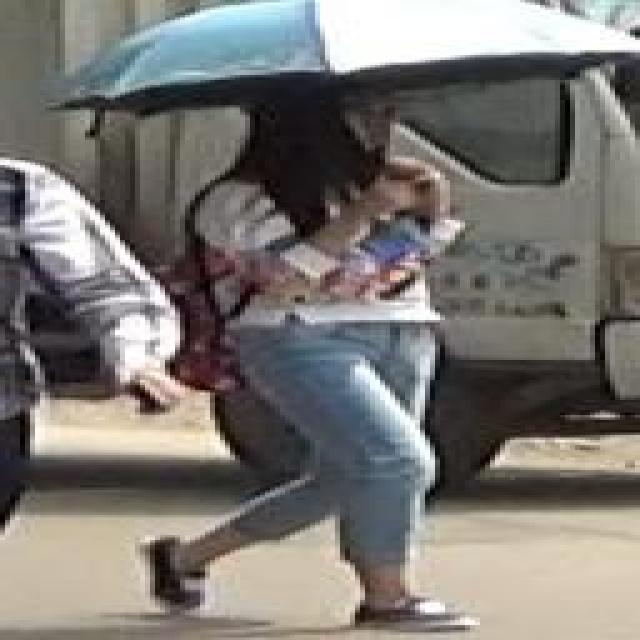adult: (134, 80, 504, 636), (0, 145, 170, 543)
